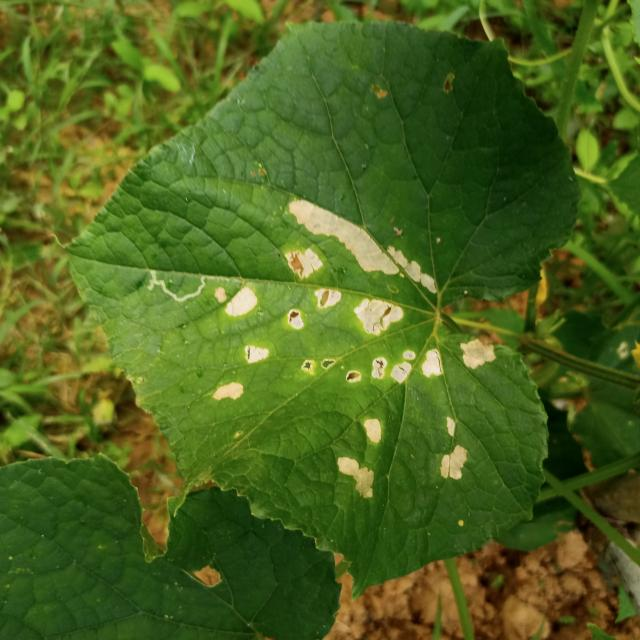disease_cucumber: (274, 192, 445, 339), (299, 337, 506, 403), (208, 280, 275, 420), (333, 413, 387, 505), (436, 413, 470, 487)
